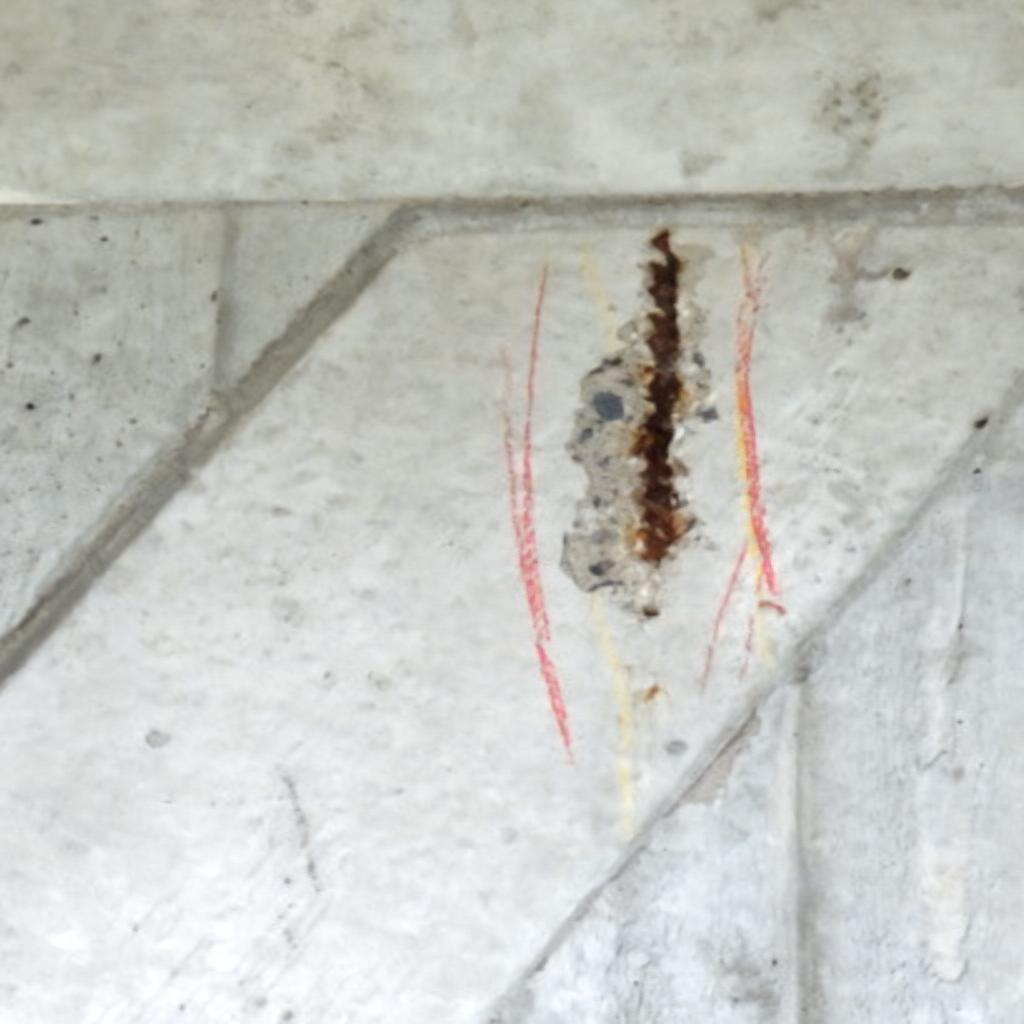exposed_rebar: (632, 230, 688, 562)
spalling: (562, 230, 718, 616)
